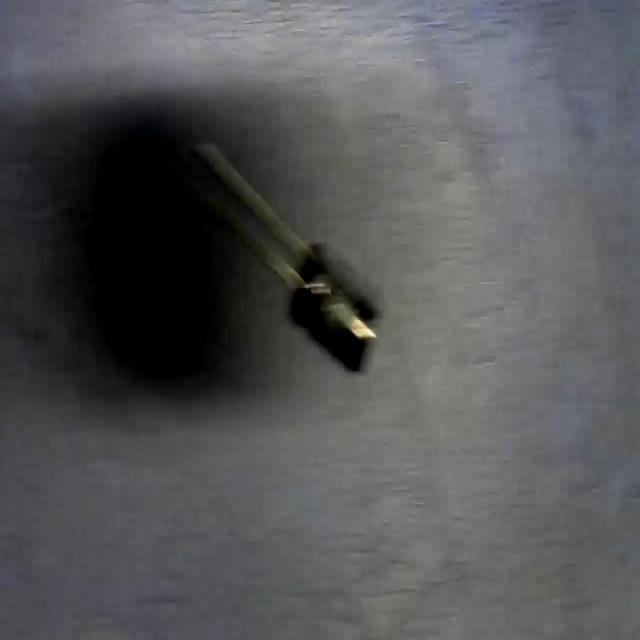capacitor: (183, 141, 377, 372)
